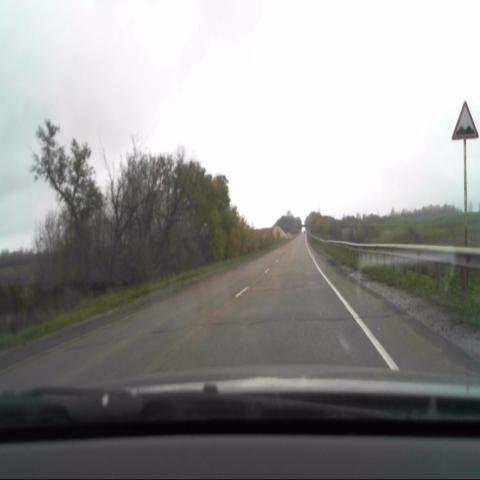1_16: (453, 98, 479, 139)
